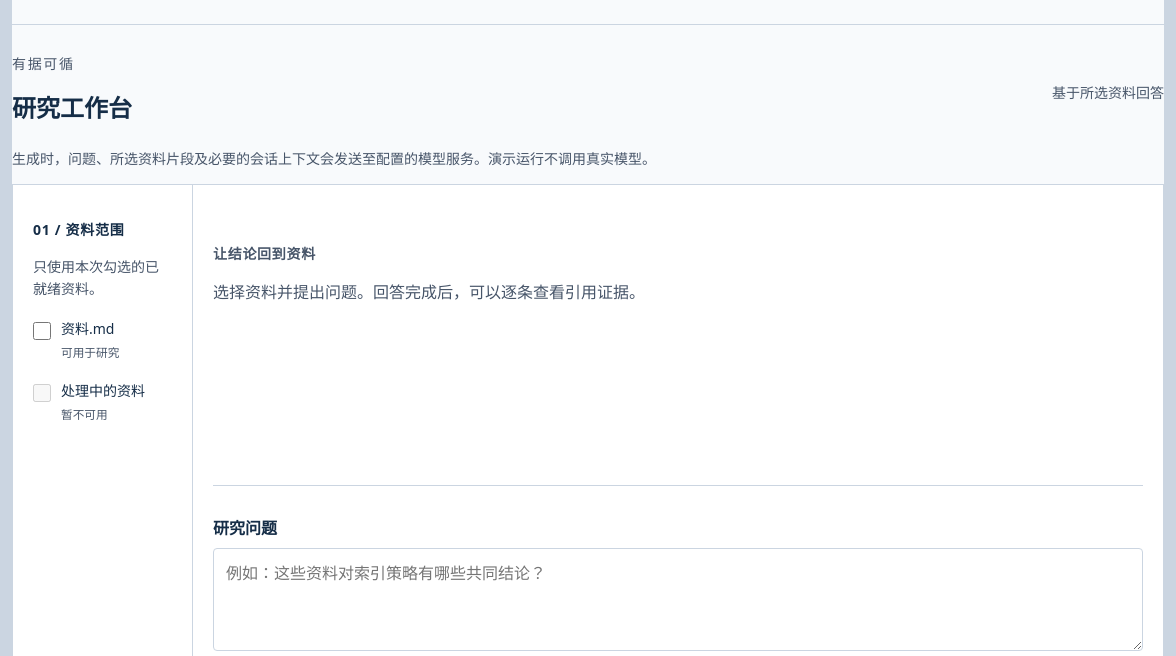
Test: recovers an HTTP 503 stream failure without another model request
Click the checkbox labelled "资料.md" at (42, 331), box [33,322,51,340]
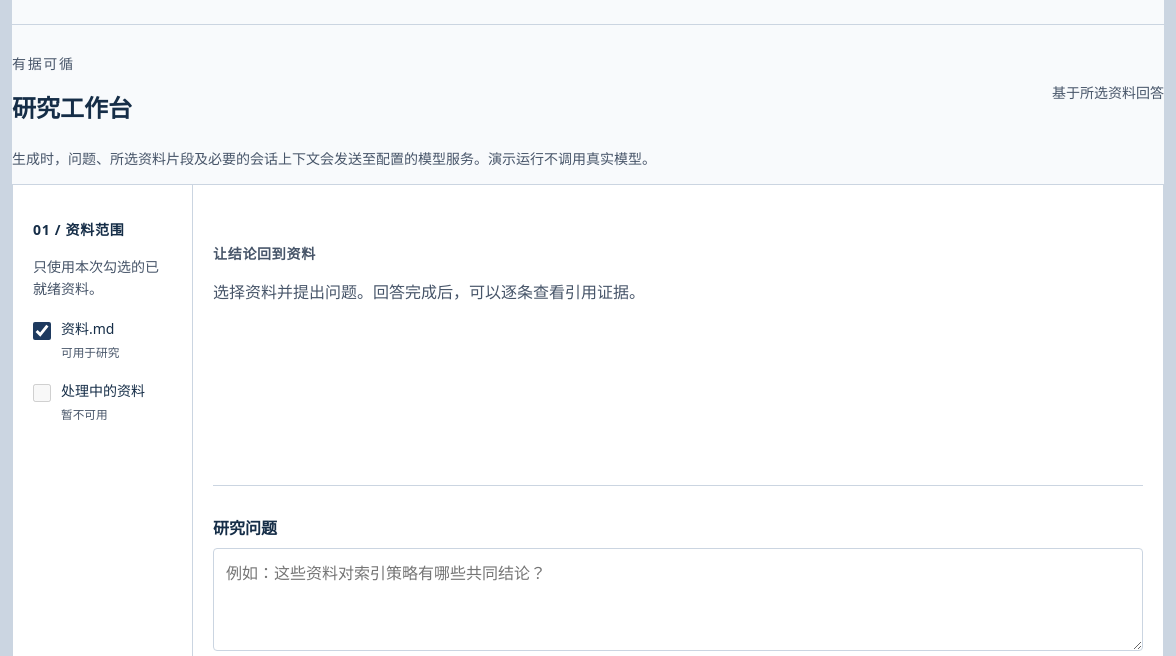
Type "问题" into the text box labelled "研究问题" at (678, 599), box [213,548,1143,651]
(page scrolled)
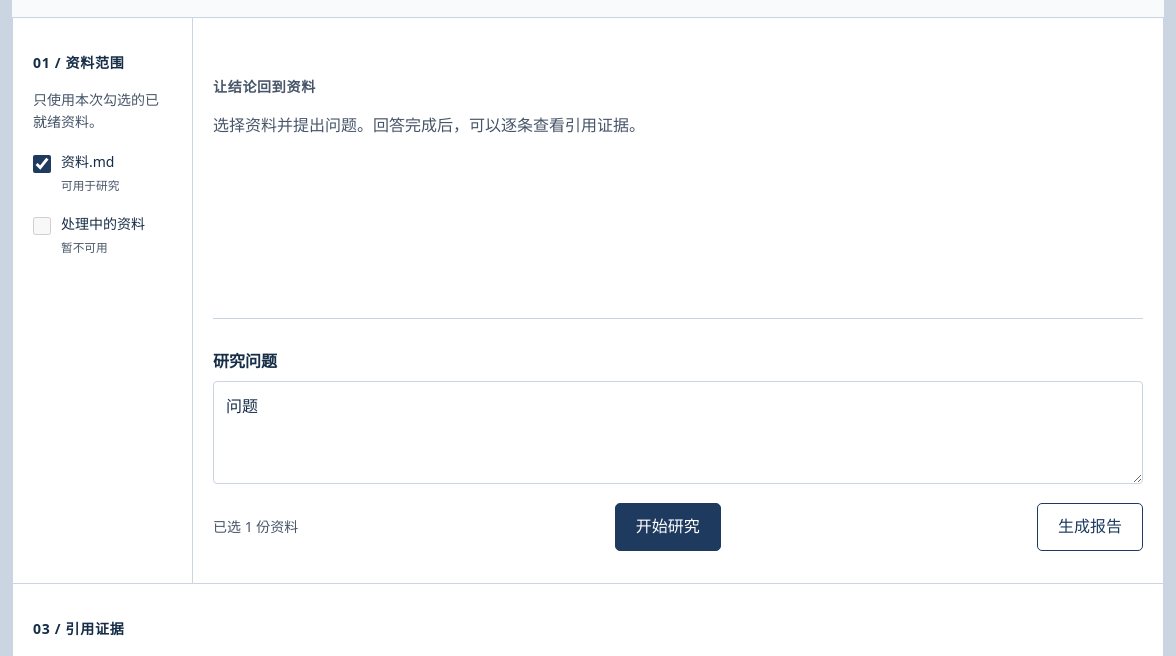
Click the button "开始研究" at (668, 527), box [615,503,721,551]
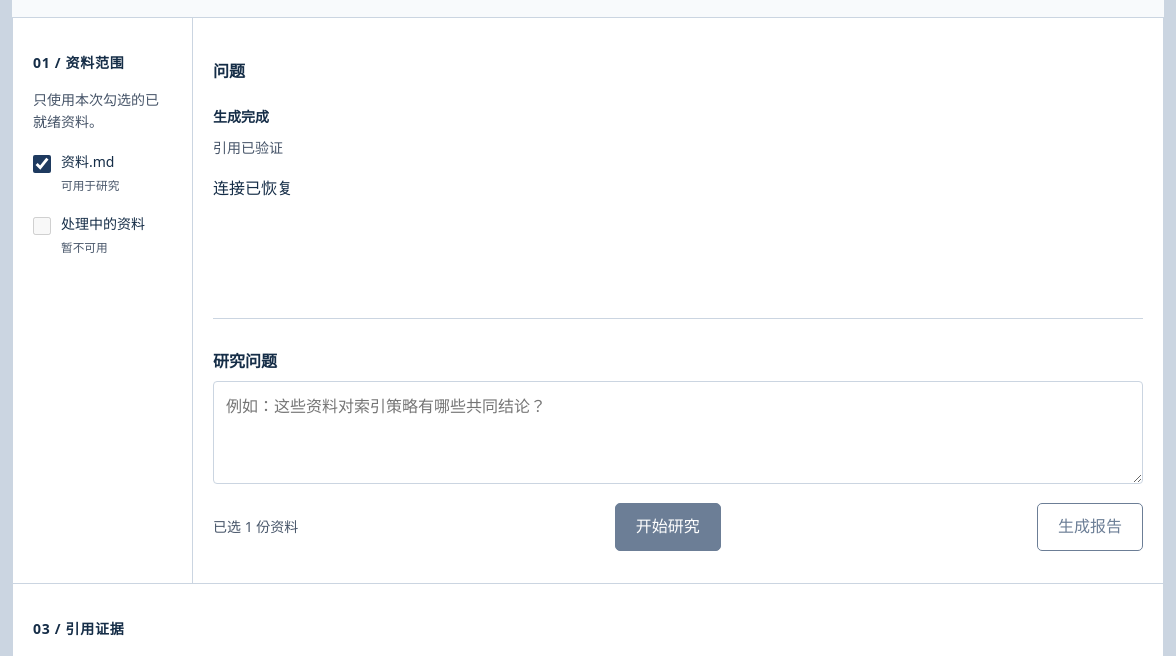
expect the text "连接已恢复" is shown: met, box [213,177,293,199]
